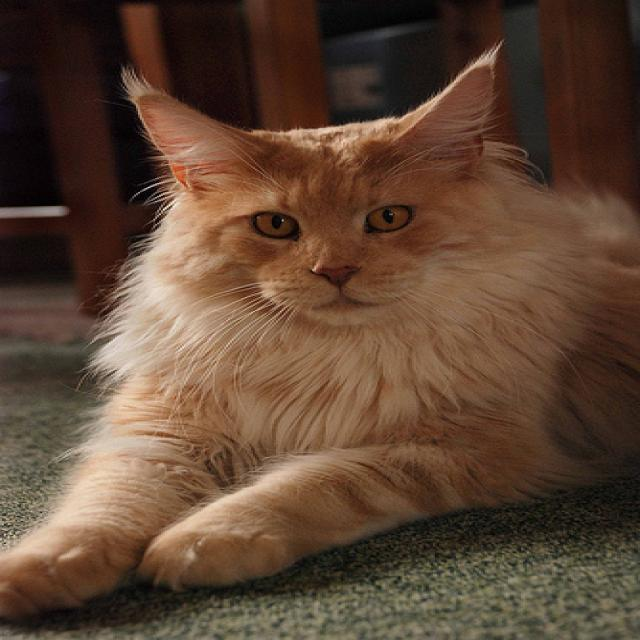Maine_Coon: (110, 40, 516, 332)
